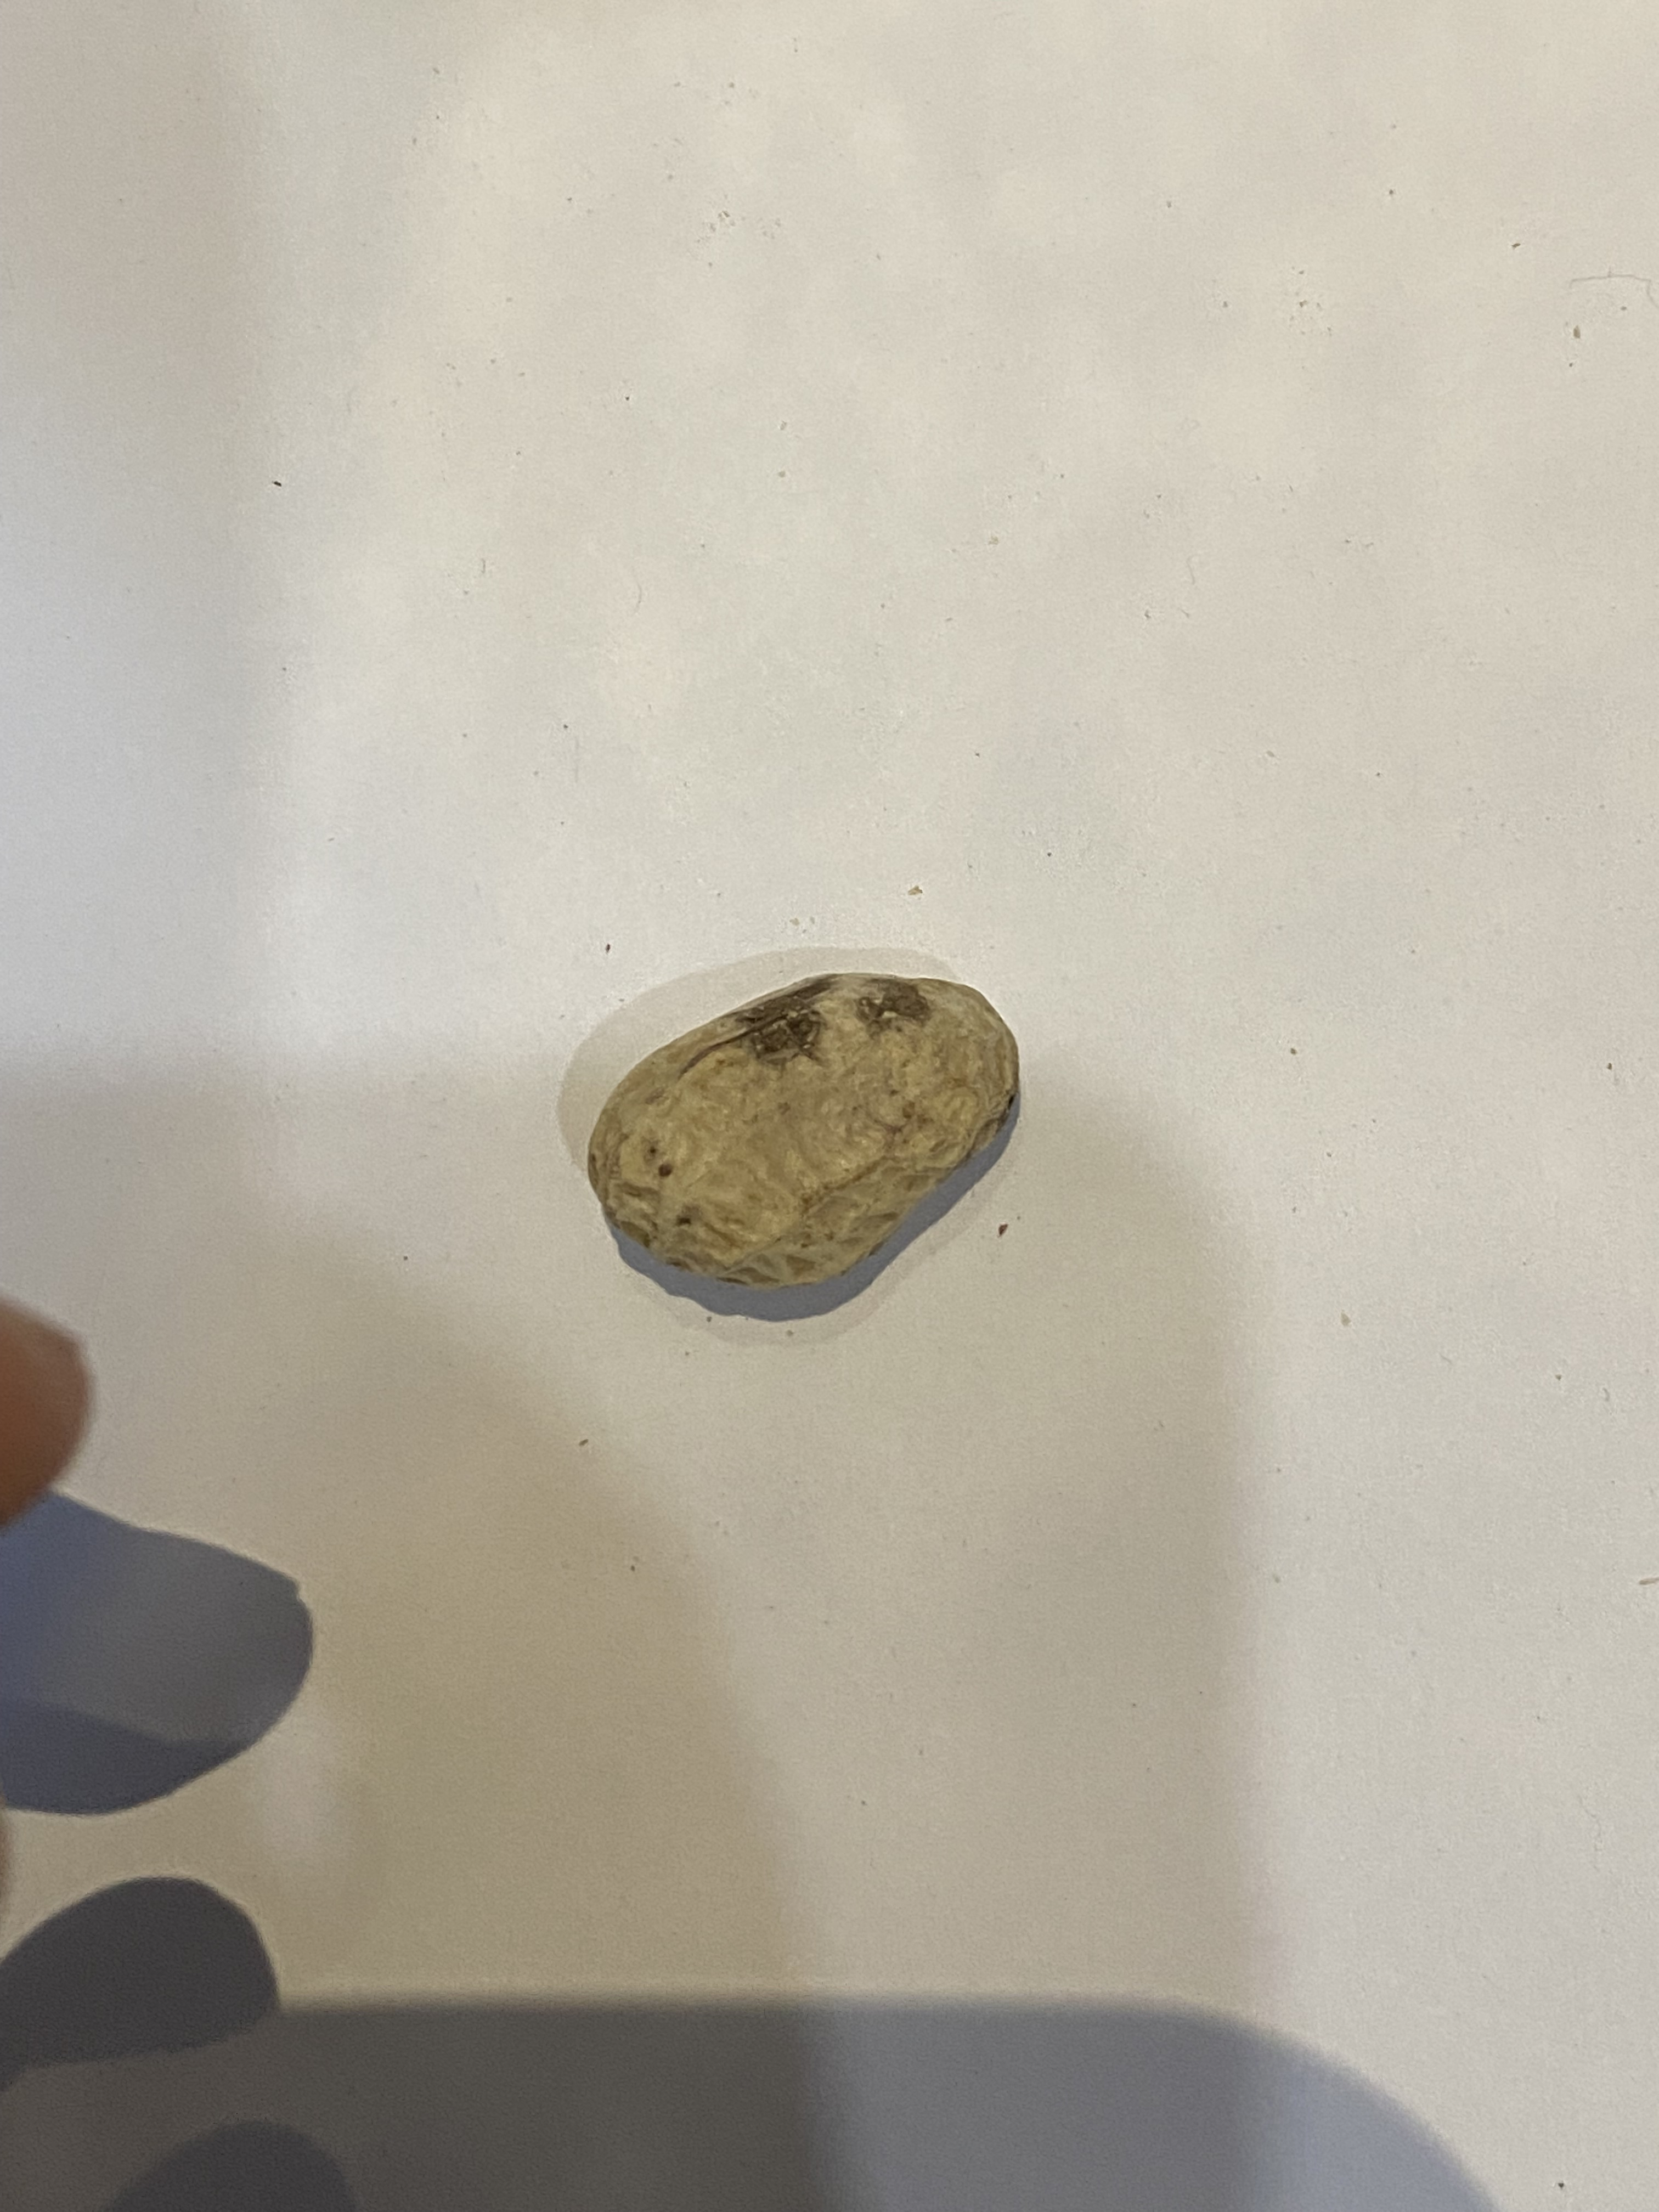kacang1: (577, 925, 1051, 1298)
